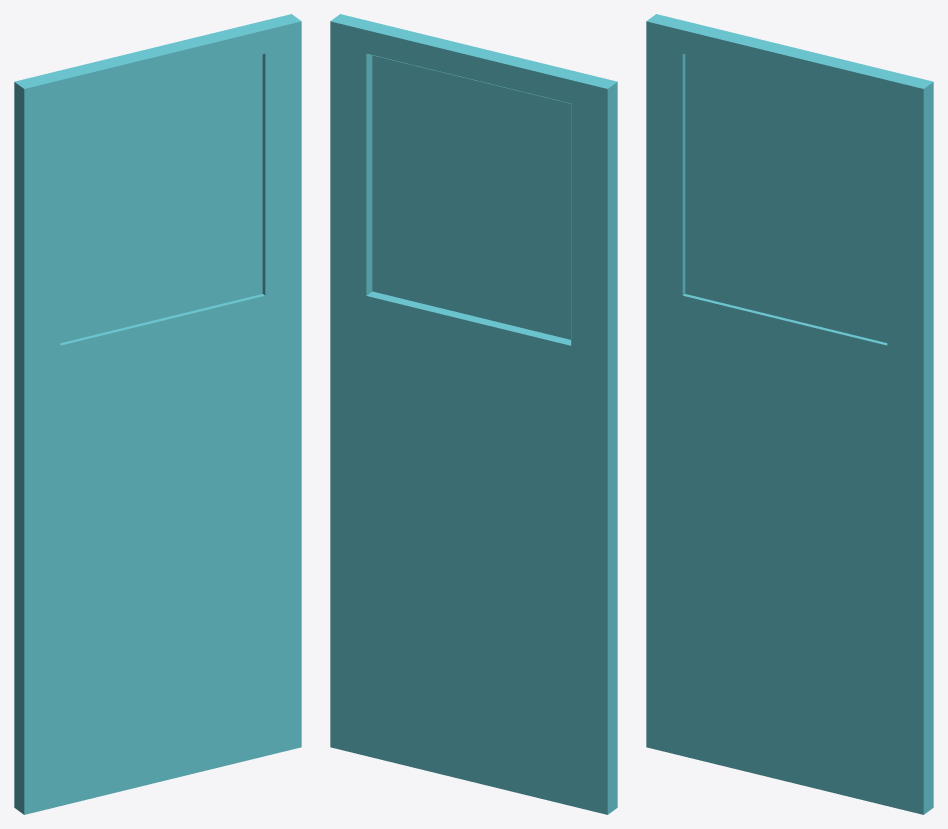
File: tür-glass.glb
3 renders of one model, left to right at view 1: azimuth 30°, elevation 25°; view 2: azimuth 150°, elevation 25°; view 3: azimuth 330°, elevation 25°, orthographic.
Visible parts, largest first — view 1: Cube; view 2: Cube; view 3: Cube.
Part boxes in pixels (<box>): Cube: <box>14,14,301,814</box>; Cube: <box>330,14,617,814</box>; Cube: <box>646,14,933,814</box>.
Bounding box in the file's own units: 1.6 × 4 × 0.1029.
